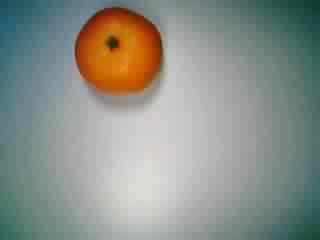orange: (69, 4, 164, 106)
